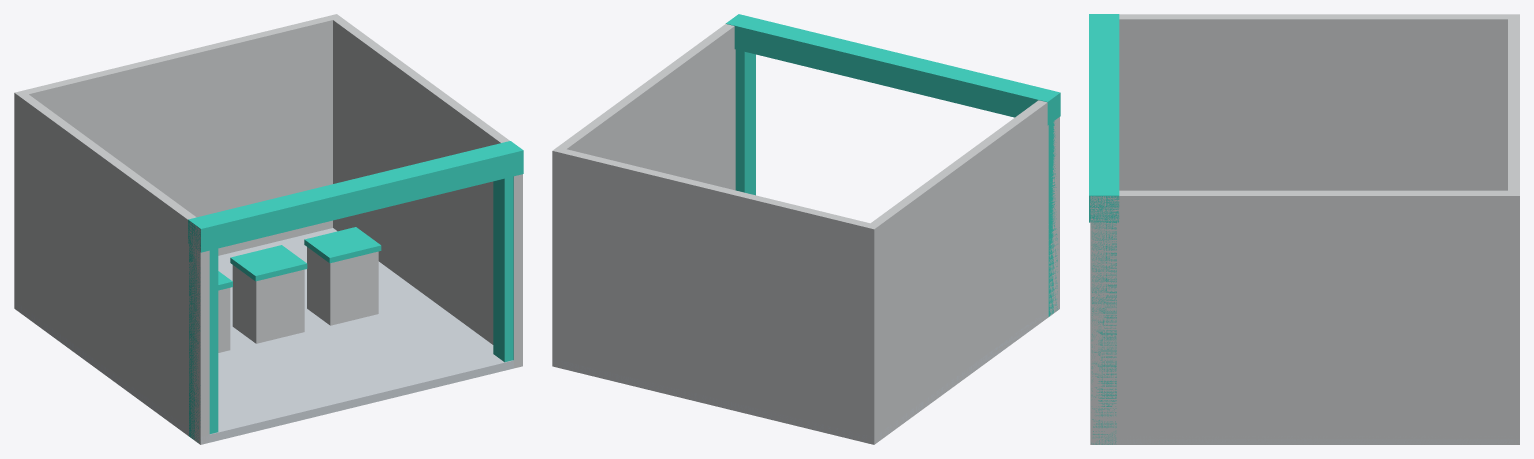
3 views of the same model, side by side, from view 1: azimuth 30°, elevation 25°; view 2: azimuth 150°, elevation 25°; view 3: azimuth 270°, elevation 25° (orthographic). The views are drawn at different scales.
Parts seen in each view (by area): view 1: Exhibition Booth Concept; view 2: Exhibition Booth Concept; view 3: Exhibition Booth Concept.
Boxes of the visible parts, x1=… form: Exhibition Booth Concept: x1=14, y1=14, x2=523, y2=444; Exhibition Booth Concept: x1=552, y1=14, x2=1060, y2=444; Exhibition Booth Concept: x1=1089, y1=14, x2=1519, y2=444.
Bounding box in the file's own units: 5 × 3.2 × 5.02.
